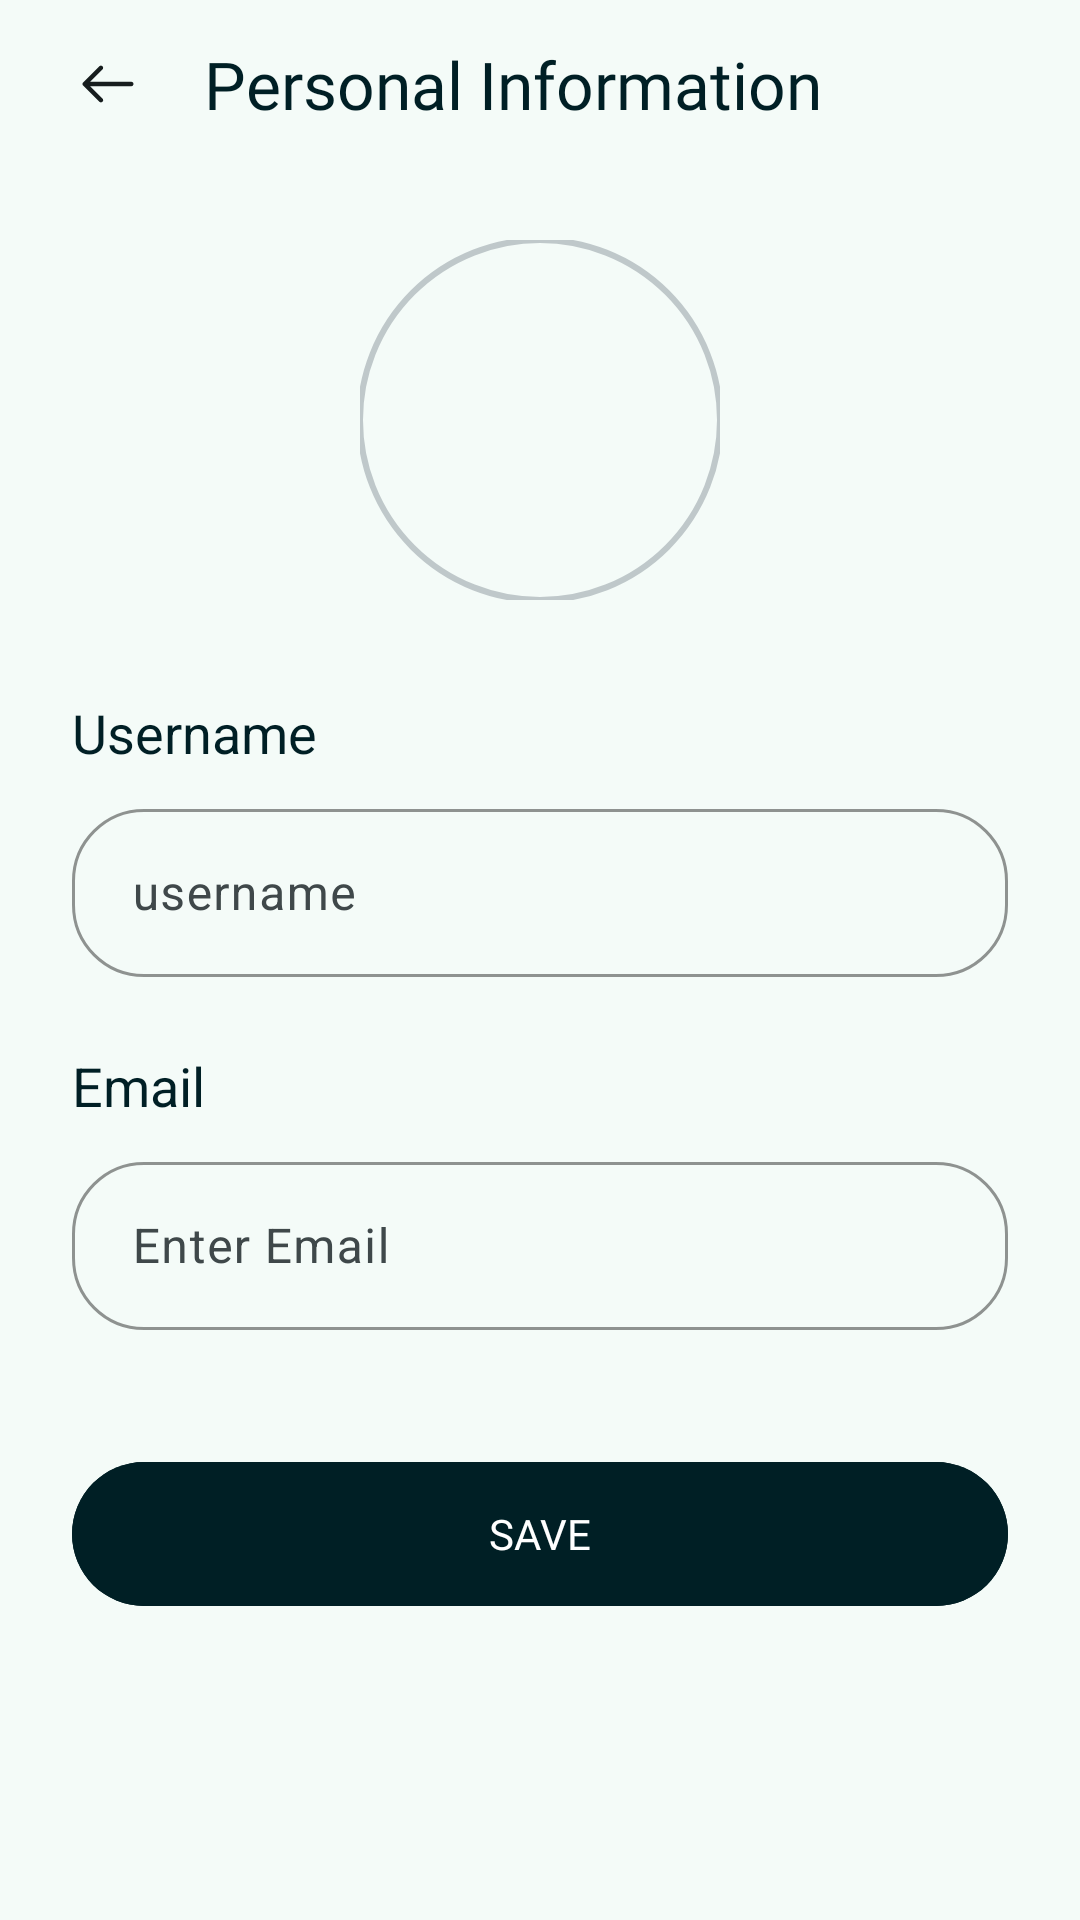

Point at icon controls on the screen. Image size 1080×1920, points as point (x, y).
Back: point (108, 84)
